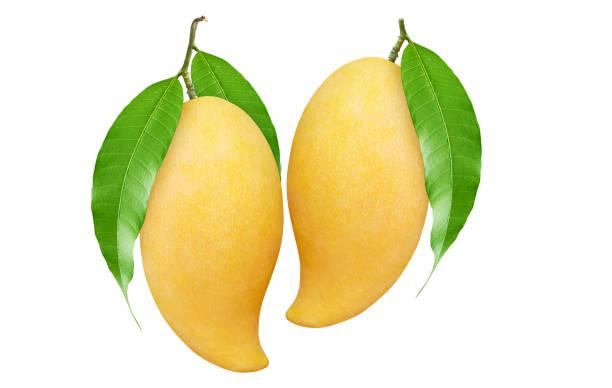mango: (87, 7, 289, 386), (291, 10, 469, 341)
